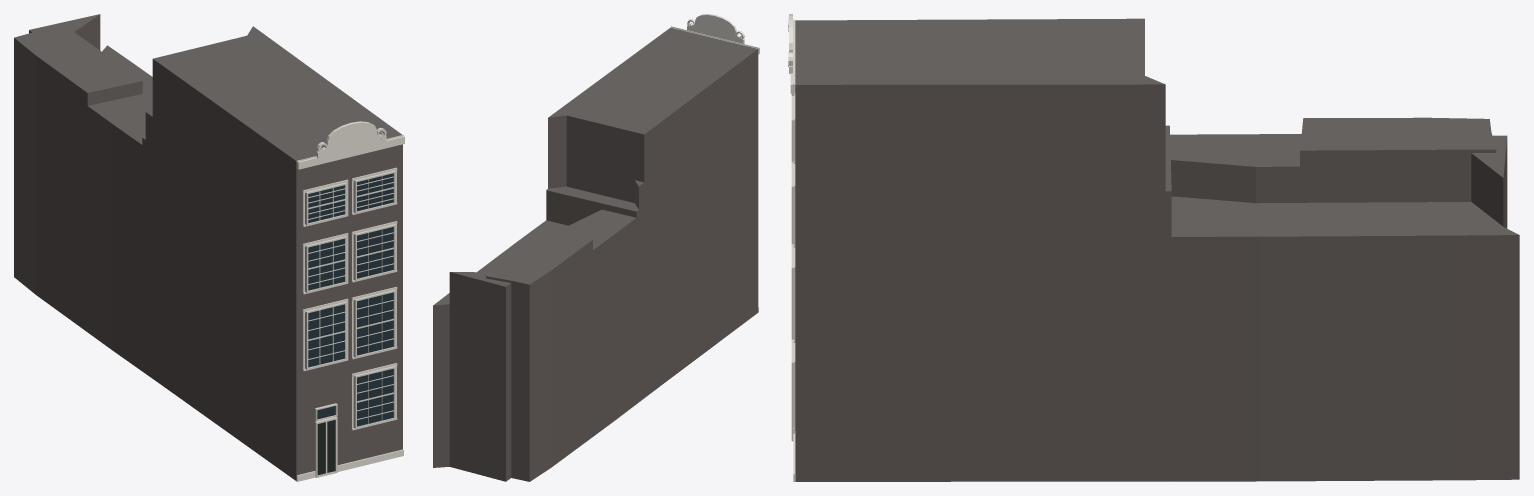
3 views of the same model, side by side, from view 1: azimuth 30°, elevation 25°; view 2: azimuth 150°, elevation 25°; view 3: azimuth 270°, elevation 25° (orthographic). The views are drawn at different scales.
Parts seen in each view (by area): view 1: spec-0363100012167689; view 2: spec-0363100012167689; view 3: spec-0363100012167689.
Part boxes in pixels (x1,y1,x2,y2): spec-0363100012167689: (14,14,404,481); spec-0363100012167689: (433,14,759,481); spec-0363100012167689: (788,14,1519,481).
Size of the model in its own units: 5.68 by 16.94 by 26.13.
